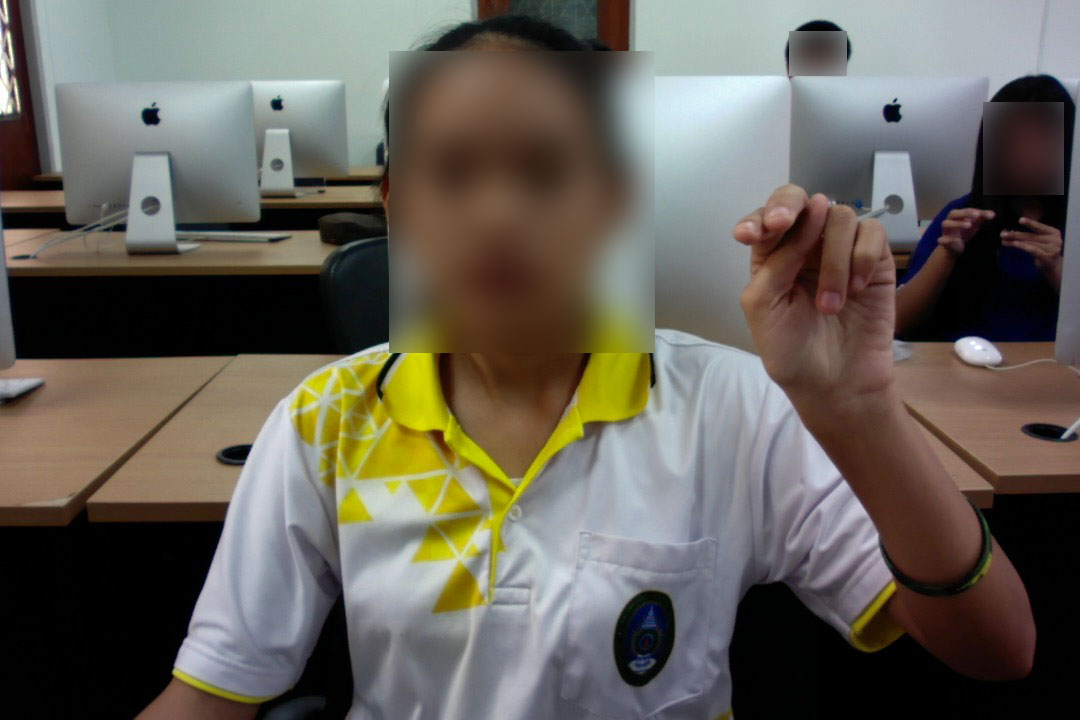nor: (723, 174, 912, 411)
